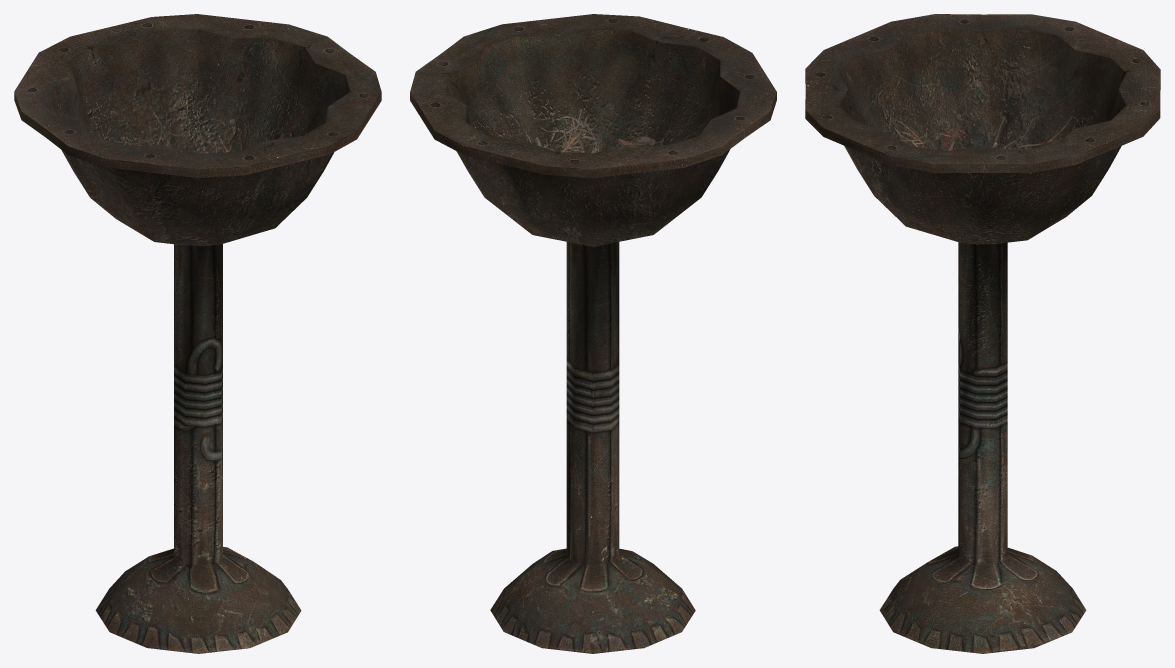
The model's file is SM_Birdbath.FBX.
3 renders of one model, left to right at view 1: azimuth 30°, elevation 25°; view 2: azimuth 150°, elevation 25°; view 3: azimuth 270°, elevation 25°, orthographic.
Parts seen in each view (by area): view 1: SM_Birdbath; view 2: SM_Birdbath; view 3: SM_Birdbath.
Part boxes in pixels (x1,y1,x2,y2): SM_Birdbath: [14, 14, 381, 653]; SM_Birdbath: [410, 14, 776, 653]; SM_Birdbath: [805, 14, 1160, 653].
Size of what is drawn, in the model's own units: 66.87 by 66.8 by 108.
